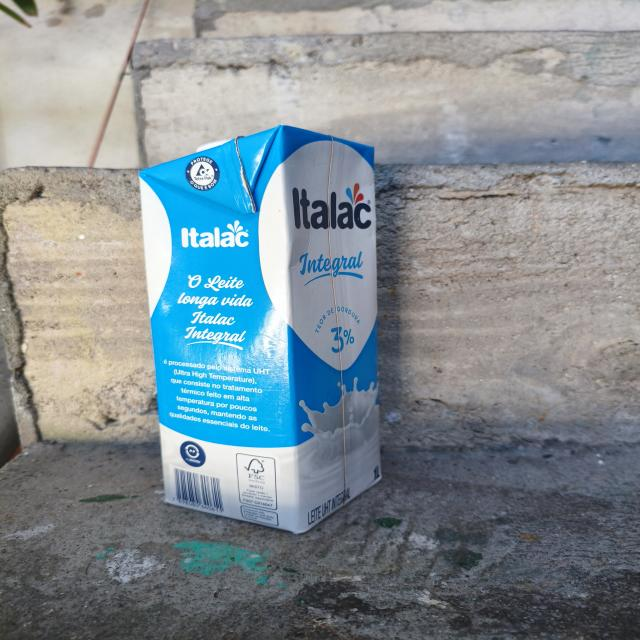Caixa de Leite: (136, 117, 418, 537)
